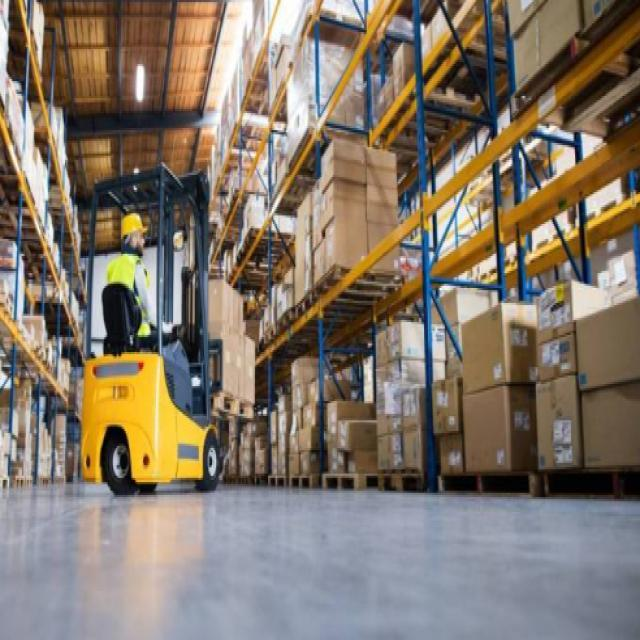helmet: (120, 209, 150, 259)
vest: (105, 252, 152, 339)
